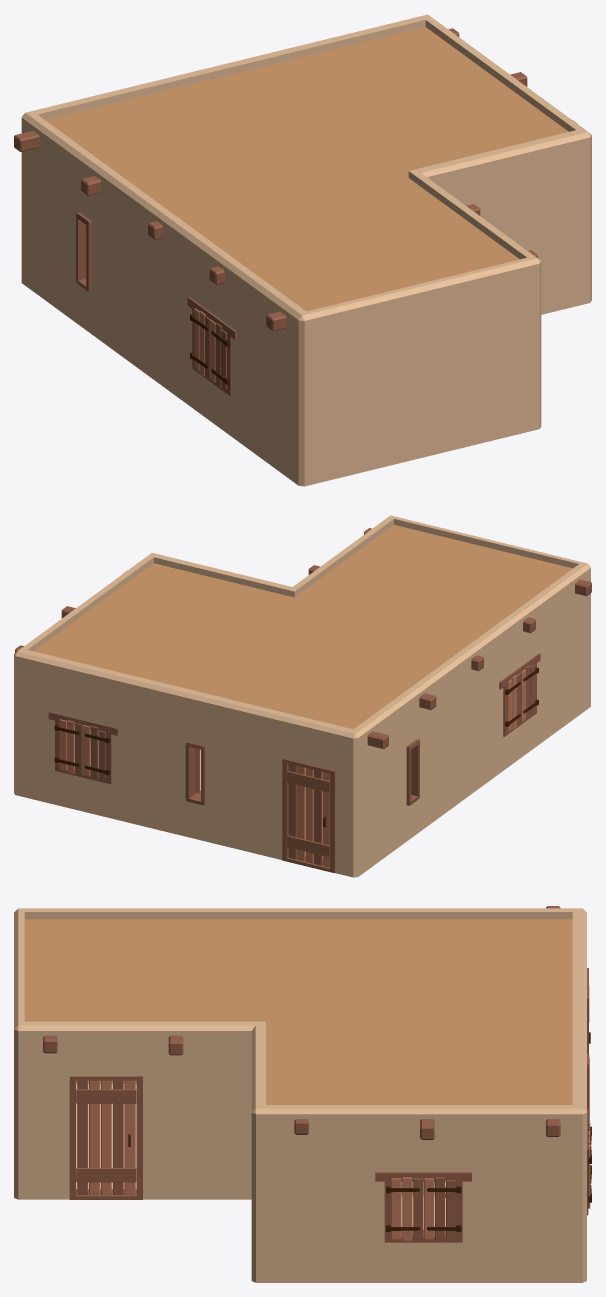
File: Medium Building A.fbx
3 renders of one model, top to bottom at view 1: azimuth 30°, elevation 25°; view 2: azimuth 150°, elevation 25°; view 3: azimuth 270°, elevation 25°, orthographic. The views are drawn at different scales.
Visible parts, largest first — view 1: Medium Building A; view 2: Medium Building A; view 3: Medium Building A.
Boxes of the visible parts, x1=… form: Medium Building A: x1=14, y1=14, x2=591, y2=486; Medium Building A: x1=14, y1=515, x2=591, y2=877; Medium Building A: x1=14, y1=906, x2=591, y2=1282.
Size of the model in its own units: 905 by 328 by 997.
